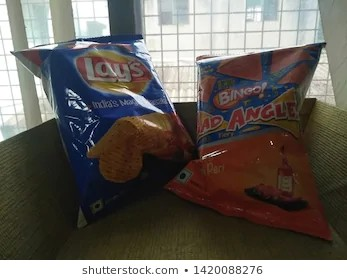lays-small: (12, 28, 196, 215)
